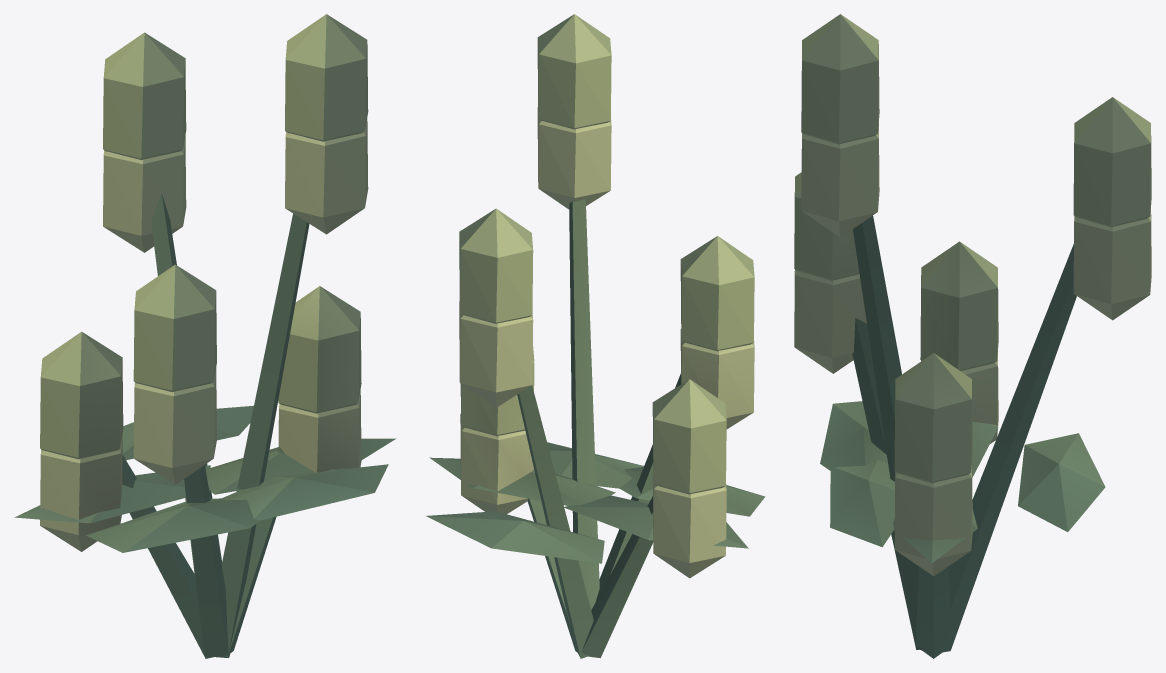
Rendered from find_alpine_sage.glb.
3 renders of one model, left to right at view 1: azimuth 30°, elevation 25°; view 2: azimuth 150°, elevation 25°; view 3: azimuth 270°, elevation 25°, orthographic. The views are drawn at different scales.
Parts seen in each view (by area): view 1: find_alpine_sage; view 2: find_alpine_sage; view 3: find_alpine_sage.
Part boxes in pixels (x1,y1,x2,y2): find_alpine_sage: [14, 14, 396, 658]; find_alpine_sage: [426, 14, 765, 658]; find_alpine_sage: [794, 14, 1151, 658].
Bounding box in the file's own units: 0.4237 × 0.7267 × 0.3518.
